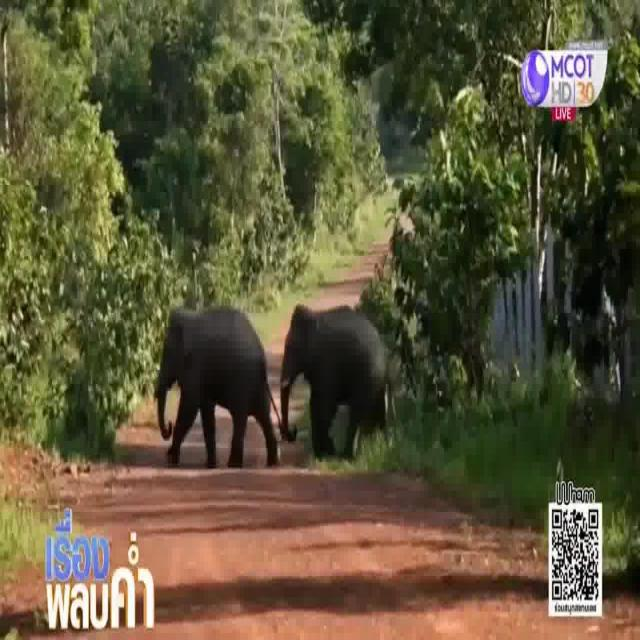Elephant: (155, 292, 278, 453), (282, 300, 384, 449)
